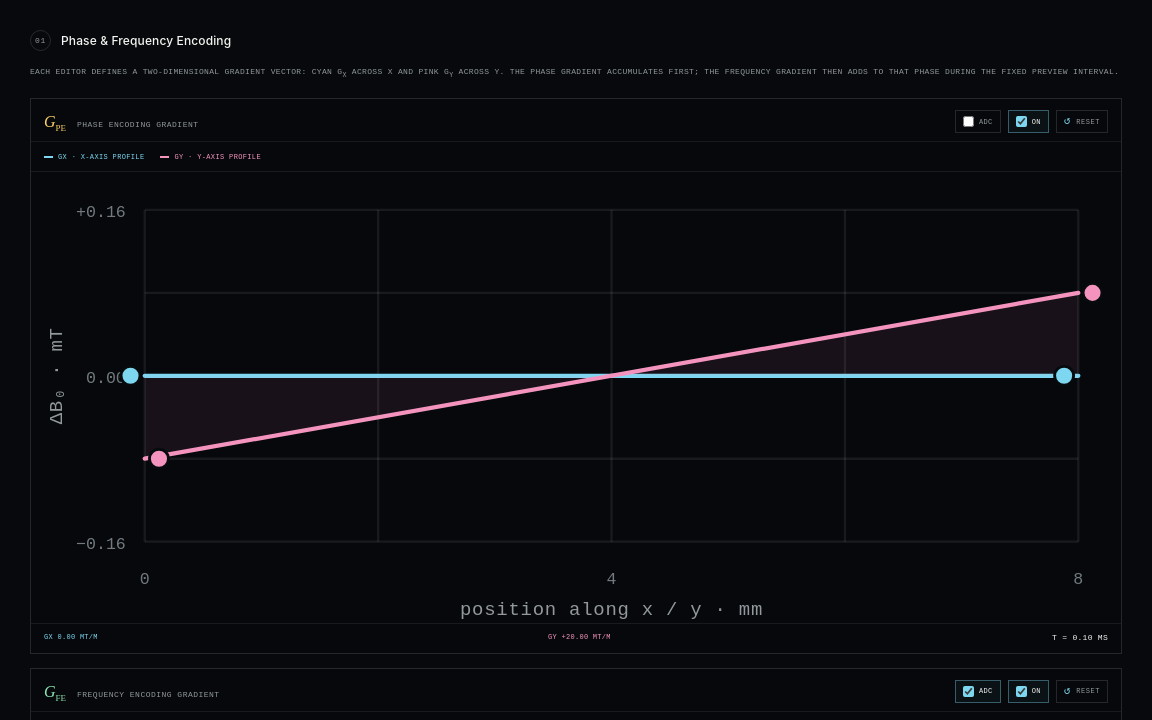
it: TwoDimensionalGradientEncodingExperimentPanel › moves the k-space cursor without acquiring when the edited stage ADC is off
Press ArrowUp in the slider labelled "Phase encoding G x gradient 0 millimeter endpoint", box [104,350,157,402]
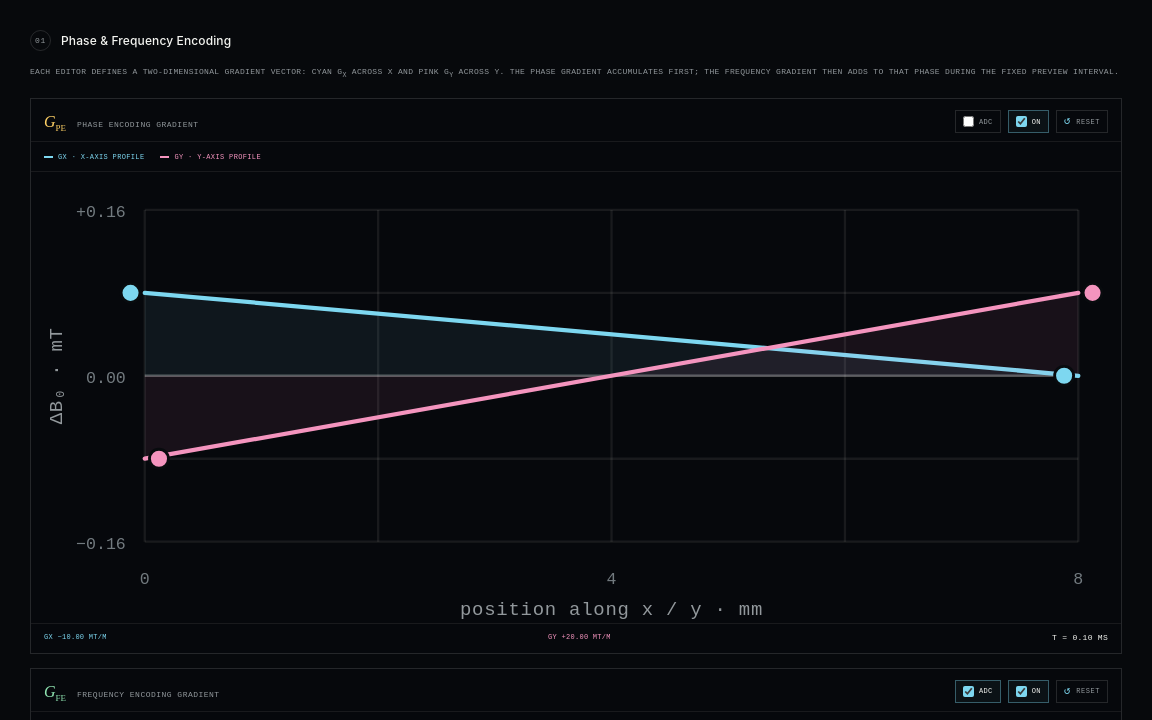
Click the checkbox named "Enable phase encoding gradient" at [1021, 122], box [1016,116,1027,127]
(page scrolled)
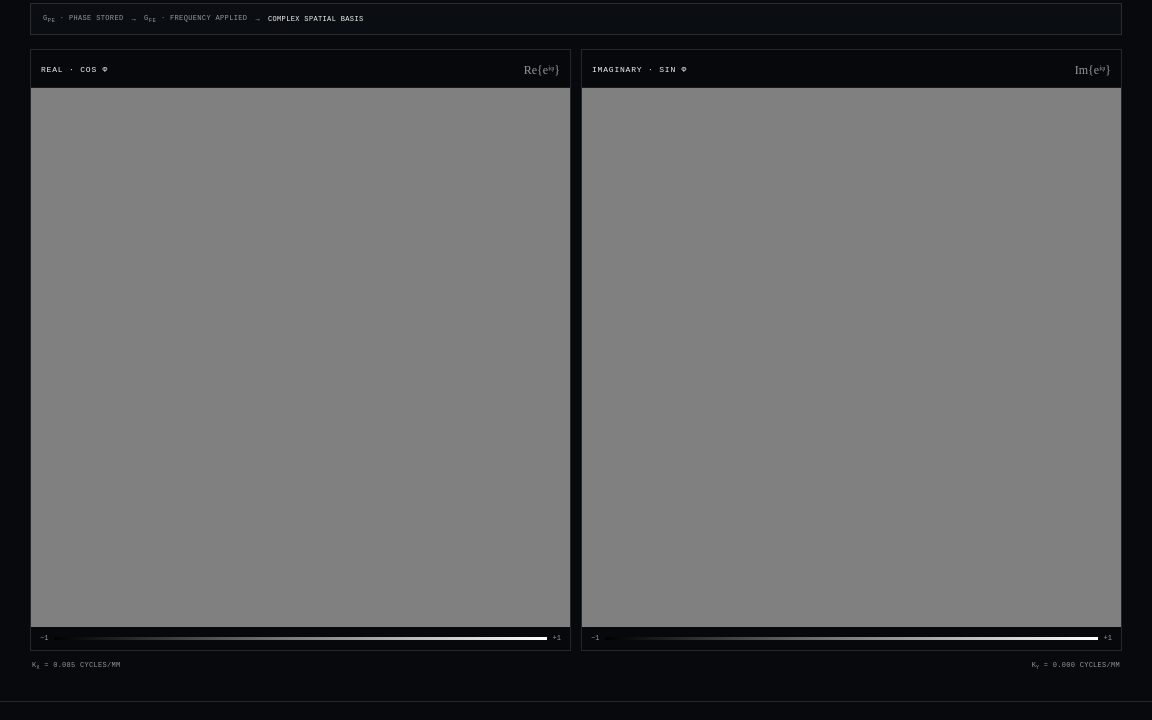
Check: the element named "Current complex spatial encoding basis" shows "ky = 0.000 cycles/mm"
